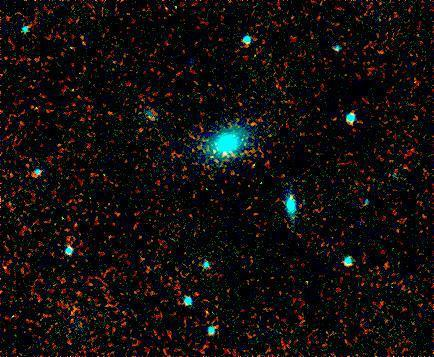star: (244, 113, 274, 143)
